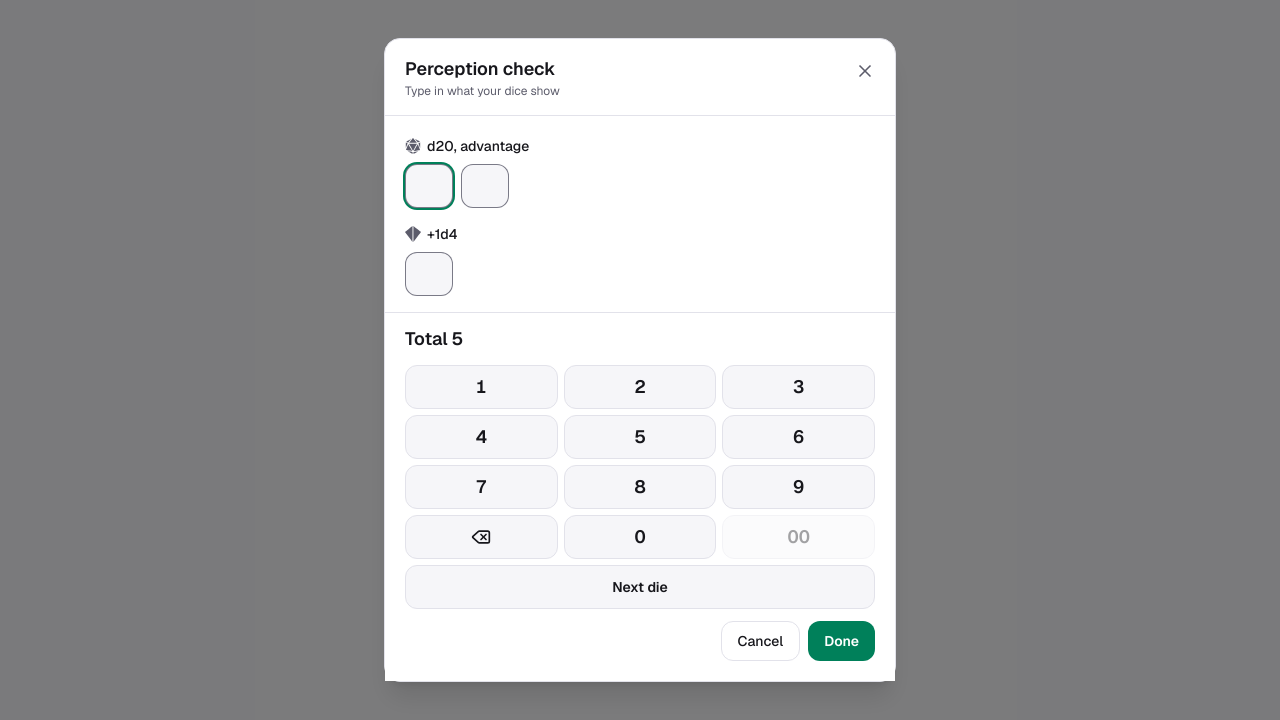
Test: components/dice-entry/dice-entry-dialog › typing › types the keypad’s keys into the focused box, focus staying there
Click the button "1" at (481, 387), box [405,365,558,409]
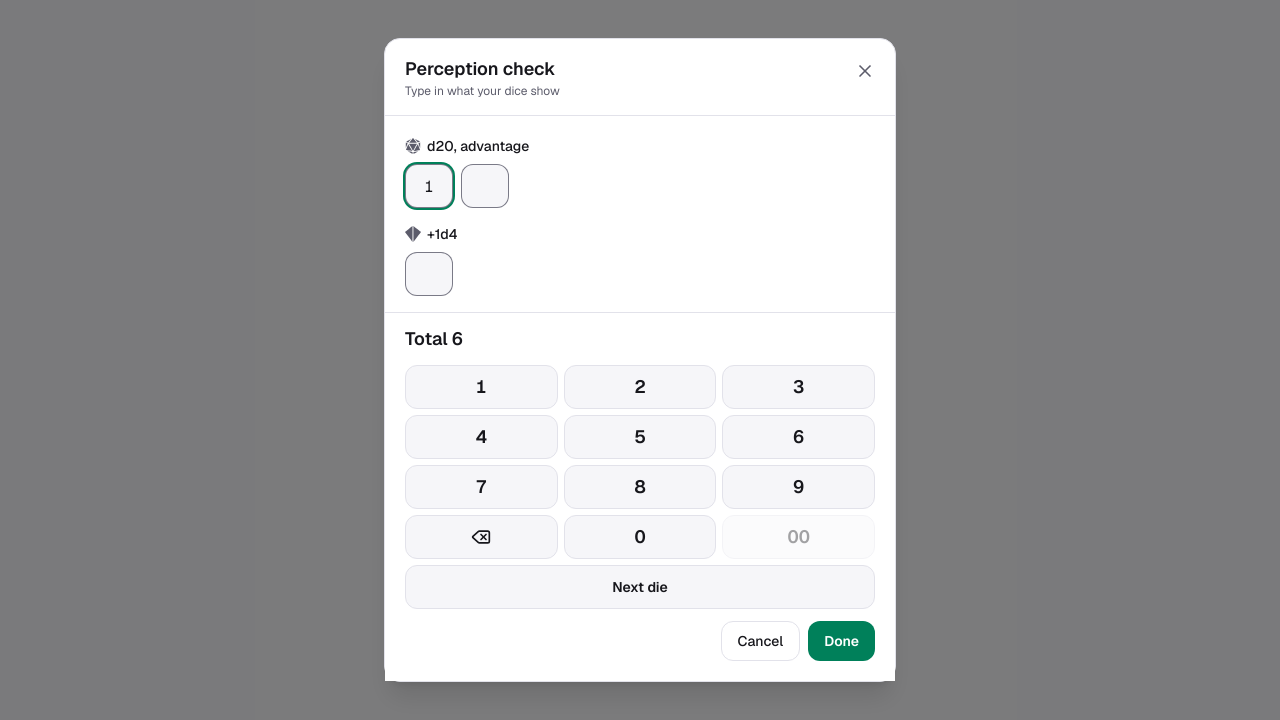
Now the field named "d20 1 of 2" holds "1", box [405,164,453,208]
